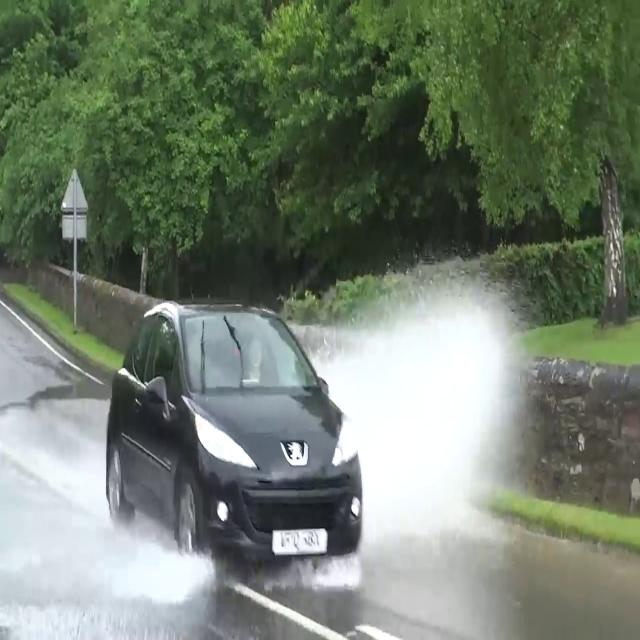license-plate-annotation: (272, 525, 334, 557)
